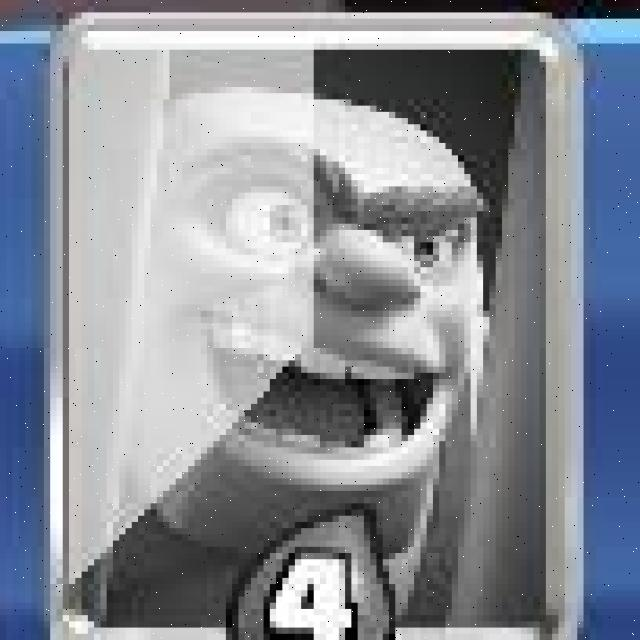Goblin_Cage: (48, 12, 586, 640)
